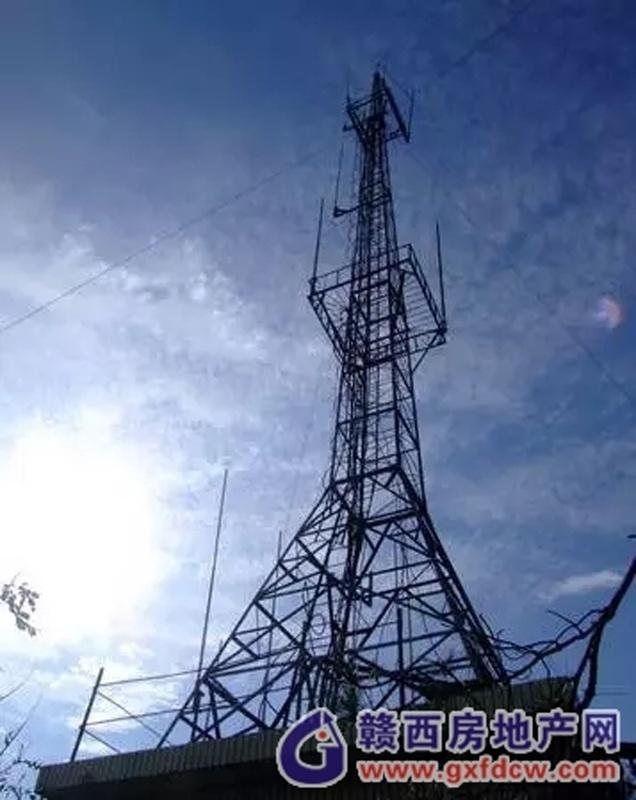power_tower: (209, 95, 523, 737)
